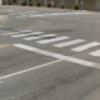crosswalks: (1, 28, 100, 57)
